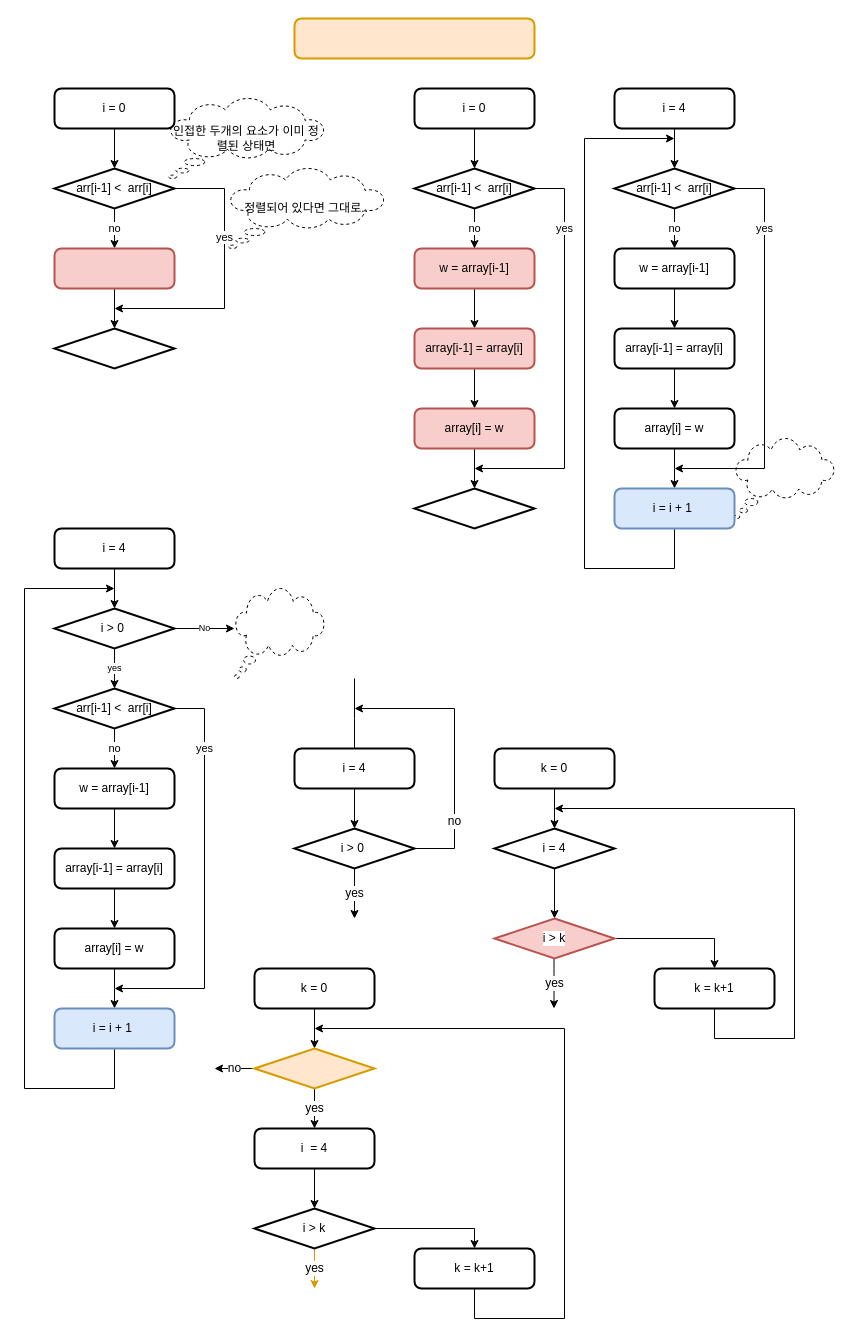
Some shapes in this 852 by 1344 pixel diagram are drawn without their labels. Each missing label, with the centre of its shape:
k < 4: point (314, 1068)
교환: point (114, 268)
두 번째 요소를 확정시키는 처리로 다시 시작: point (279, 633)
를 하나 왼쪽으로 이동: point (784, 478)
정렬 - 단순 교환법: point (414, 38)
